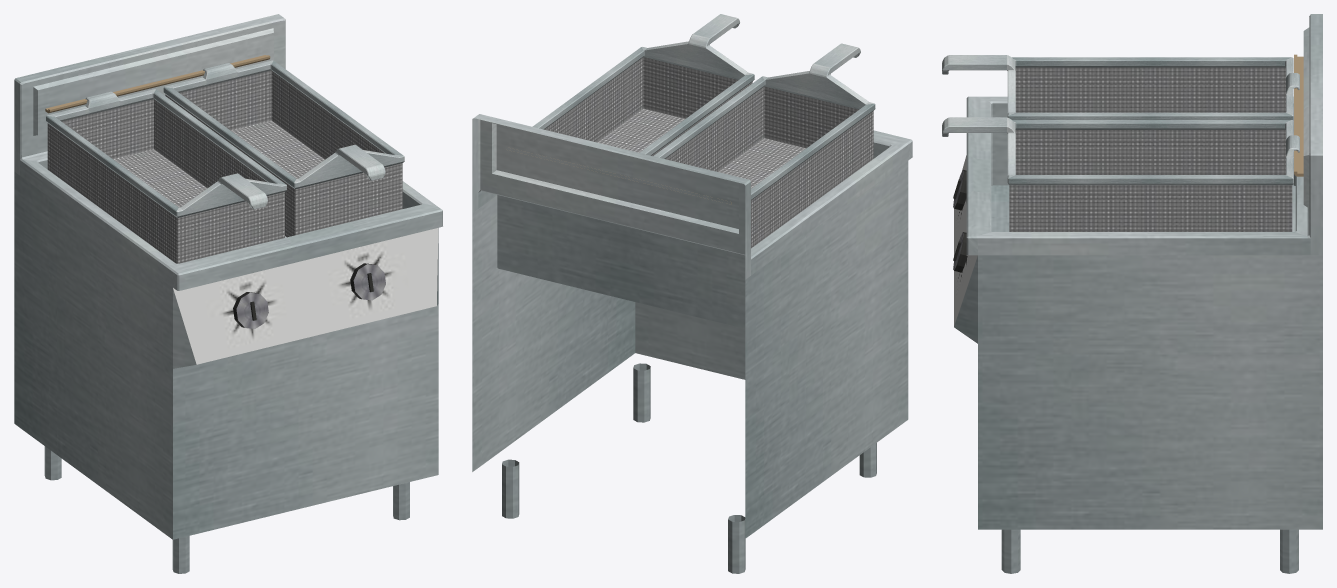
File: Deepfryer.gltf
The picture shows the model from 3 angles, left to right: view 1: azimuth 30°, elevation 25°; view 2: azimuth 150°, elevation 25°; view 3: azimuth 270°, elevation 25°; orthographic projection. The views are drawn at different scales.
Parts seen in each view (by area): view 1: Deepfryer, Deepfryer_basket1, Deepfryer_basket2; view 2: Deepfryer, Deepfryer_basket1, Deepfryer_basket2; view 3: Deepfryer, Deepfryer_basket2, Deepfryer_basket1.
Part boxes in pixels (x1,y1,x2,y2): Deepfryer: (14,14,443,573); Deepfryer_basket1: (46,89,286,263); Deepfryer_basket2: (163,60,404,237); Deepfryer: (472,114,912,573); Deepfryer_basket1: (653,43,875,248); Deepfryer_basket2: (532,14,754,155); Deepfryer: (953,14,1322,573); Deepfryer_basket2: (942,117,1299,231); Deepfryer_basket1: (942,55,1299,120).
Bounding box in the file's own units: 1.05 × 1.49 × 1.2.
Materials: 2 (2 with a texture image).
